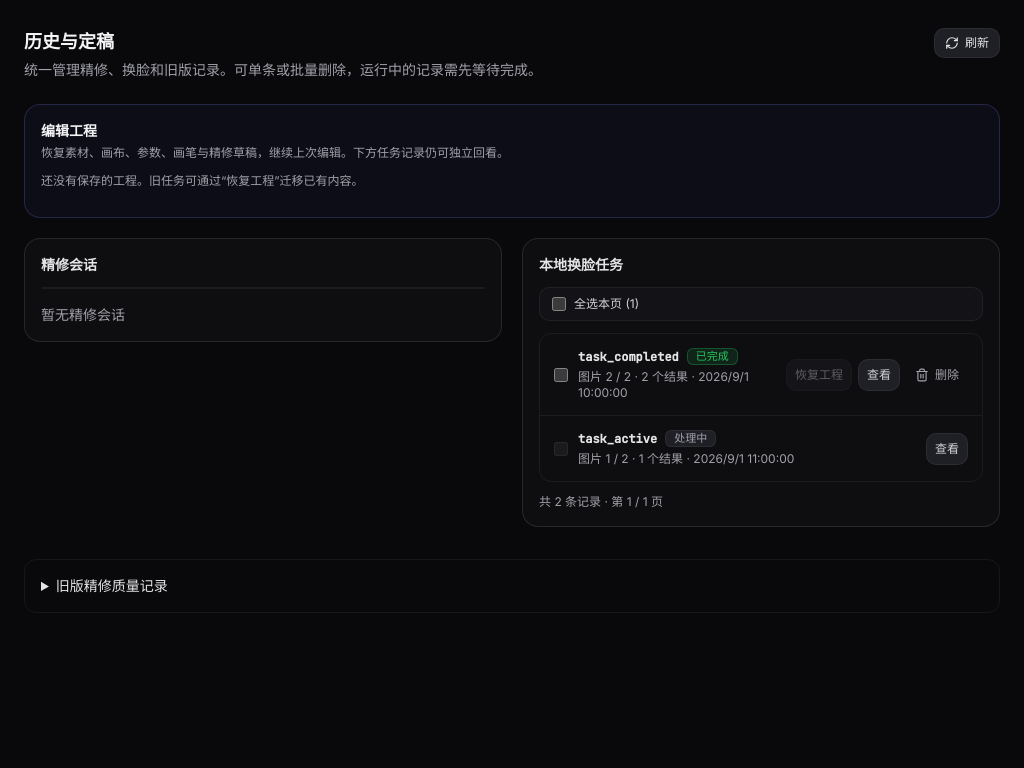
Test: HistoryWorkspace batch task deletion › displays error message when task deletion fails
The width and height of the screenshot is (1024, 768).
Click the button with aria-label "删除任务 task_completed".
click(937, 374)  # box [906,358,968,390]
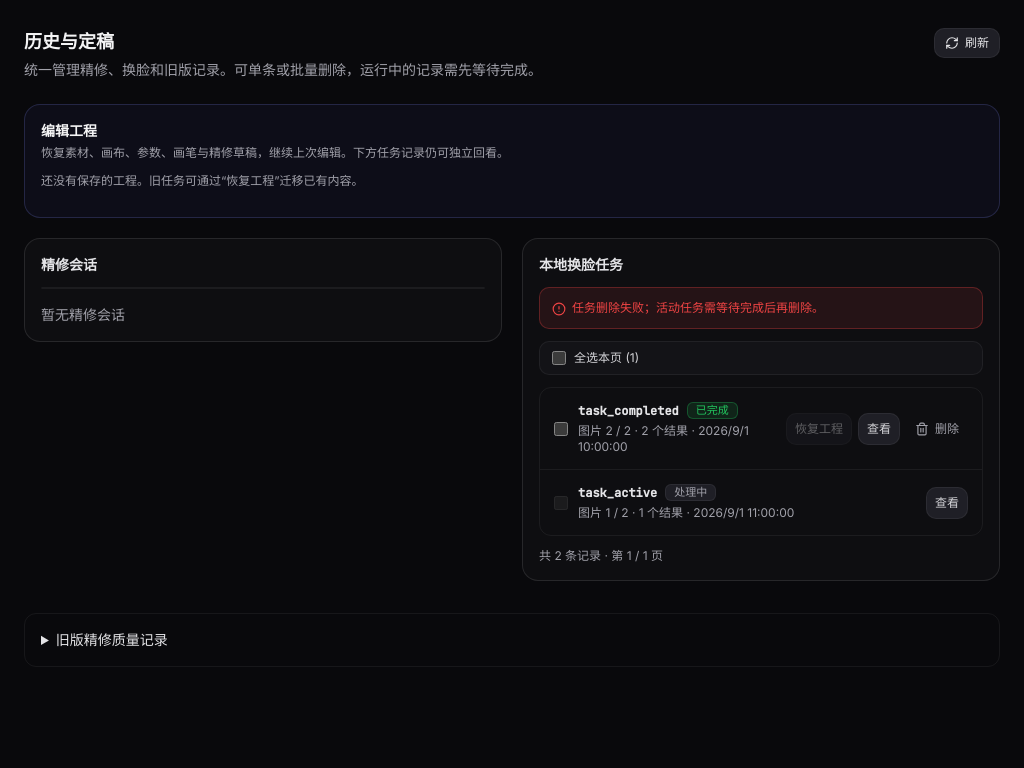
Expected: the text "task_completed" is shown, [578,402,679,418]
Now the message reads "任务删除失败；活动任务需等待完成后再删除。", box [572,300,824,315]
